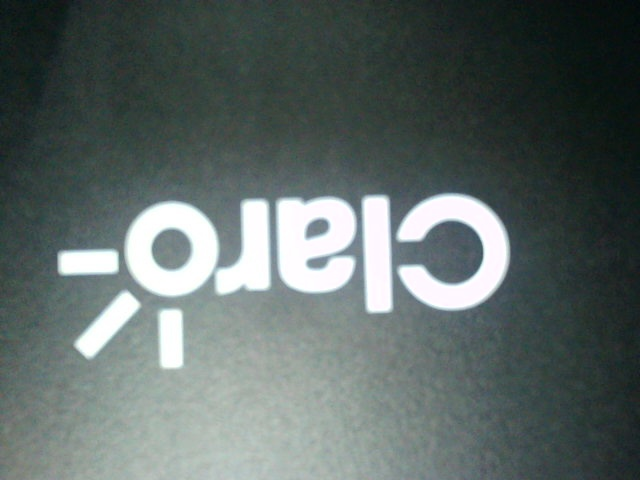BC_Claor: (52, 177, 526, 374)
